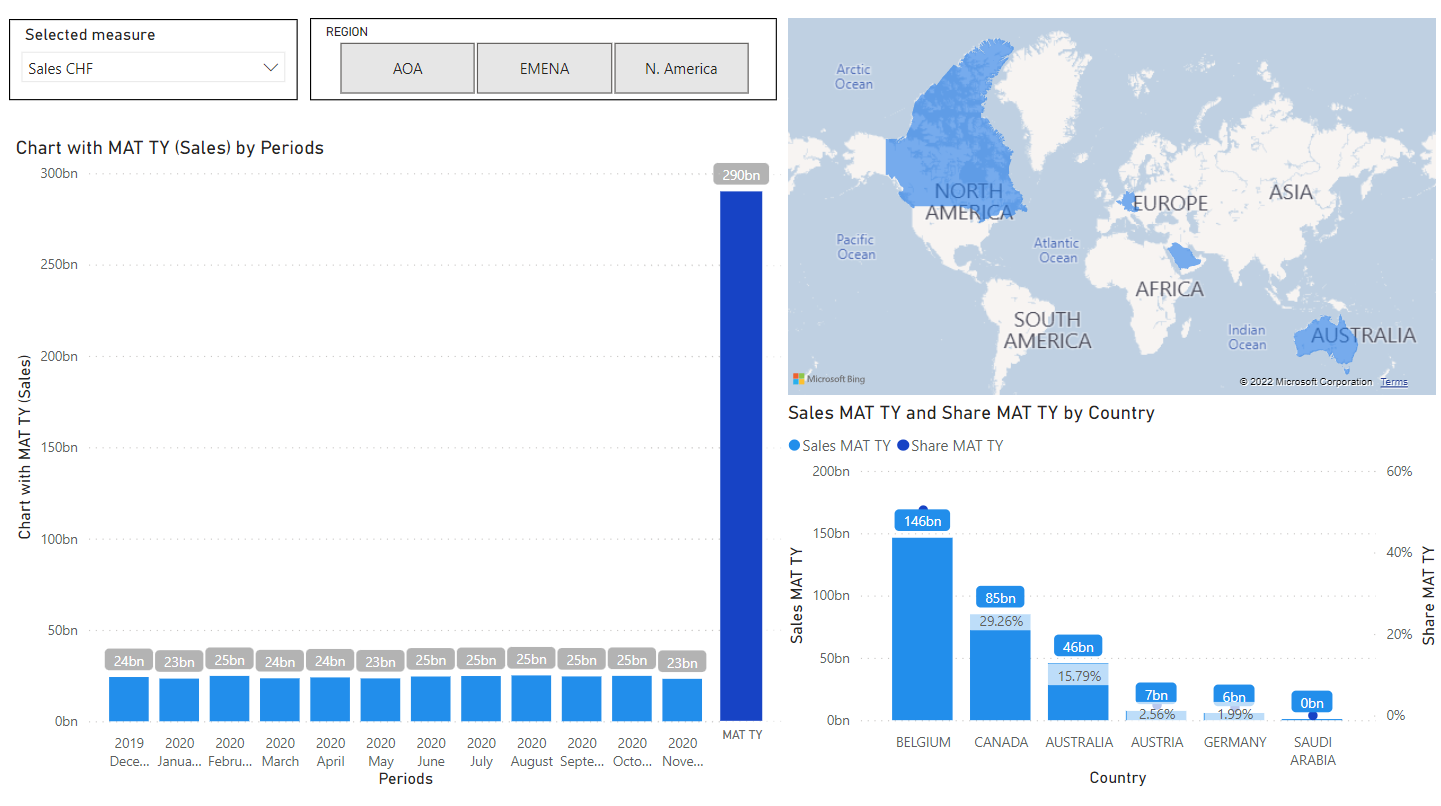

The page's visual inventory and layout, read from the dashboard file:
{"tool":"powerbi","page":{"name":"Advanced Page 2","canvas":[1280,720],"ordinal":2},"visuals":[{"type":"lineClusteredColumnComboChart","title":"Chart with MAT TY (Sales) by Periods","fields":{"Y":["Coffee_data (1).Sales MAT TY"]},"box":[566.6,128.6,230.5,538.2],"z":0},{"type":"slicer","fields":{"Values":["Currency.Currency"]},"box":[9.3,20.9,255.8,72.5],"z":1000},{"type":"slicer","fields":{"Values":["Coffee_data (1).REGION"]},"box":[276.3,20.1,414,73.1],"z":2000},{"type":"lineStackedColumnComboChart","fields":{"Category":["Coffee_data (1).Country"],"Y":["Coffee_data (1).Sales MAT TY"],"Y2":["Divide(Coffee_data (1).Sales MAT TY, ScopedEval(Coffee_data (1).Sales MAT TY, []))"]},"box":[694.8,360.1,585.2,347.4],"z":3000},{"type":"filledMap","fields":{"Category":["Coffee_data (1).Country"]},"box":[695.2,15.1,585.2,344.9],"z":4000},{"type":"lineClusteredColumnComboChart","title":"Chart with MAT TY (Sales) by Periods","fields":{"Category":["Coffee_data (1).Time.Variation.Date Hierarchy.Year","Coffee_data (1).Time.Variation.Date Hierarchy.Month"],"Y":["Coffee_data (1).Sales MAT TY"]},"box":[10.6,125,636.7,582.6],"z":5000}]}

Visuals, with their boxes in screenshot pixels (x1, y1, x2, y2), scaled from the page's 1280x720 canvas onto the 1441x806 screenshot:
"Chart with MAT TY (Sales) by Periods" lineClusteredColumnComboChart: {"x1": 638, "y1": 144, "x2": 897, "y2": 746}
slicer - Currency.Currency: {"x1": 10, "y1": 23, "x2": 298, "y2": 105}
slicer - Coffee_data (1).REGION: {"x1": 311, "y1": 23, "x2": 777, "y2": 104}
lineStackedColumnComboChart - Coffee_data (1).Country x Coffee_data (1).Sales MAT TY: {"x1": 782, "y1": 403, "x2": 1440, "y2": 792}
filledMap - Coffee_data (1).Country: {"x1": 783, "y1": 17, "x2": 1440, "y2": 403}
"Chart with MAT TY (Sales) by Periods" lineClusteredColumnComboChart: {"x1": 12, "y1": 140, "x2": 729, "y2": 792}
